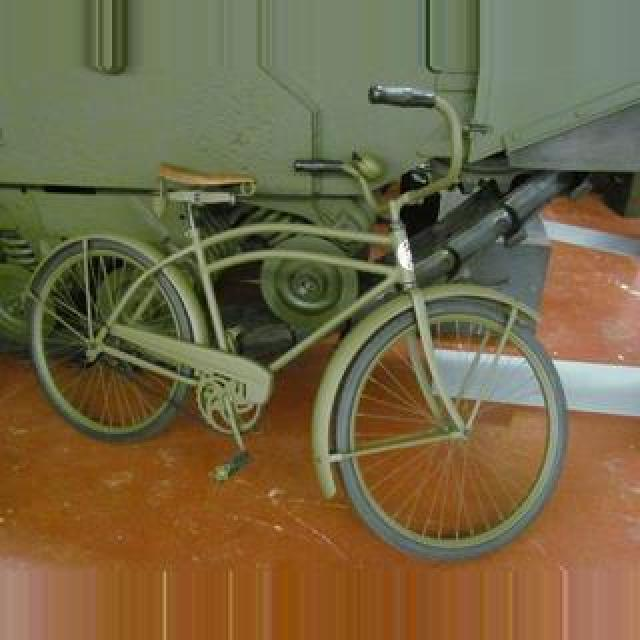Person: (8, 108, 590, 554)
